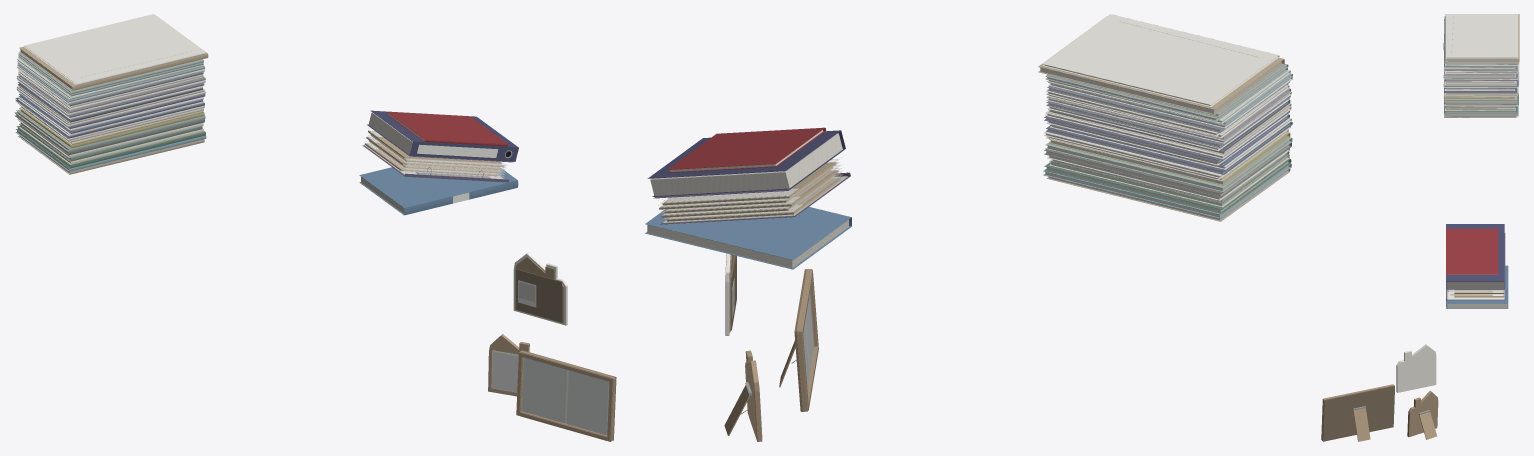
File: shelf-details-v2.glb
3 views of the same model, side by side, from view 1: azimuth 30°, elevation 25°; view 2: azimuth 150°, elevation 25°; view 3: azimuth 270°, elevation 25° (orthographic). The views are drawn at different scales.
Visible parts, largest first — view 1: TopFolder02 FrontCover, Large frame recessed glazing, BinderRight01 FrontCover, Large frame actual photo field, Large frame actual calligraphy field, RedDocumentFolderRoot FrontCover, Wall house cork board, Small house actual portrait, BinderRight03 ContinuousCurvedSpine, BinderRight01 ContinuousCurvedSpine, Dossier white spine label, BinderRight03 FrontCover (+6 smaller); view 2: TopFolder02 FrontCover, BinderRight01 FrontCover, RedDocumentFolderRoot FrontCover, BinderRight03PaperBlock, BinderRight01PaperBlock, BinderRight03 FrontCover, TopFolder01PaperBlock, Small house carved wood outer, TopFolder01 FrontCover, FlatBook07PaperBlock, FlatBook02PaperBlock, FlatBook08PaperBlock (+10 smaller); view 3: TopFolder02 FrontCover, Large frame solid rear board, RedDocumentFolderRoot FrontCover, Wall house ivory outer, BinderRight03 FrontCover, Small house carved wood outer, Large frame real folding rear support, BinderRight03PaperBlock, BinderRight01 FrontCover, Small house real folding rear support, BinderRight01PaperBlock, BinderRight02PaperBlock (+1 smaller).
Boxes of the visible parts, left/top/right/bottom form: TopFolder02 FrontCover: left=24, top=14, right=205, bottom=83; Large frame recessed glazing: left=522, top=358, right=608, bottom=434; BinderRight01 FrontCover: left=359, top=167, right=517, bottom=207; Large frame actual photo field: left=522, top=357, right=566, bottom=423; Large frame actual calligraphy field: left=566, top=370, right=608, bottom=434; RedDocumentFolderRoot FrontCover: left=387, top=111, right=507, bottom=143; Wall house cork board: left=516, top=269, right=561, bottom=322; Small house actual portrait: left=491, top=352, right=518, bottom=392; BinderRight03 ContinuousCurvedSpine: left=409, top=141, right=518, bottom=161; BinderRight01 ContinuousCurvedSpine: left=404, top=180, right=518, bottom=215; Dossier white spine label: left=417, top=144, right=498, bottom=157; BinderRight03 FrontCover: left=370, top=110, right=518, bottom=147; TopFolder02 FrontCover: left=1042, top=14, right=1278, bottom=104; BinderRight01 FrontCover: left=645, top=207, right=851, bottom=259; RedDocumentFolderRoot FrontCover: left=667, top=127, right=824, bottom=169; BinderRight03PaperBlock: left=650, top=133, right=842, bottom=195; BinderRight01PaperBlock: left=647, top=220, right=848, bottom=268; BinderRight03 FrontCover: left=647, top=130, right=840, bottom=178; TopFolder01PaperBlock: left=1040, top=61, right=1281, bottom=113; Small house carved wood outer: left=745, top=350, right=762, bottom=441; TopFolder01 FrontCover: left=1038, top=16, right=1284, bottom=109; FlatBook07PaperBlock: left=1046, top=145, right=1289, bottom=196; FlatBook02PaperBlock: left=1045, top=166, right=1288, bottom=217; FlatBook08PaperBlock: left=1047, top=140, right=1289, bottom=190; TopFolder02 FrontCover: left=1446, top=14, right=1518, bottom=57; Large frame solid rear board: left=1322, top=385, right=1394, bottom=441; RedDocumentFolderRoot FrontCover: left=1446, top=228, right=1498, bottom=273; Wall house ivory outer: left=1396, top=344, right=1436, bottom=392; BinderRight03 FrontCover: left=1446, top=224, right=1504, bottom=281; Small house carved wood outer: left=1407, top=391, right=1438, bottom=437; Large frame real folding rear support: left=1353, top=408, right=1370, bottom=441; BinderRight03PaperBlock: left=1447, top=282, right=1503, bottom=288; BinderRight01 FrontCover: left=1446, top=265, right=1508, bottom=303; Small house real folding rear support: left=1419, top=412, right=1436, bottom=439; BinderRight01PaperBlock: left=1447, top=304, right=1507, bottom=308; BinderRight02PaperBlock: left=1447, top=290, right=1504, bottom=299.
Bounding box in the file's own units: 2.57 × 2.12 × 1.37.
